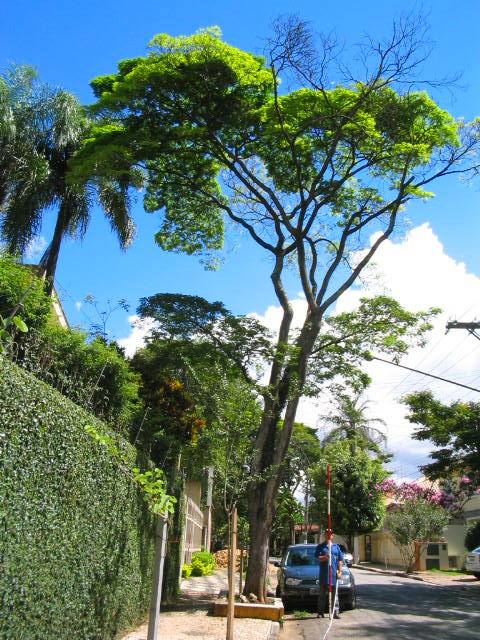crown: (63, 23, 461, 280)
stem: (237, 520, 277, 602)
stick: (320, 465, 334, 618)
tree: (61, 23, 463, 604)
